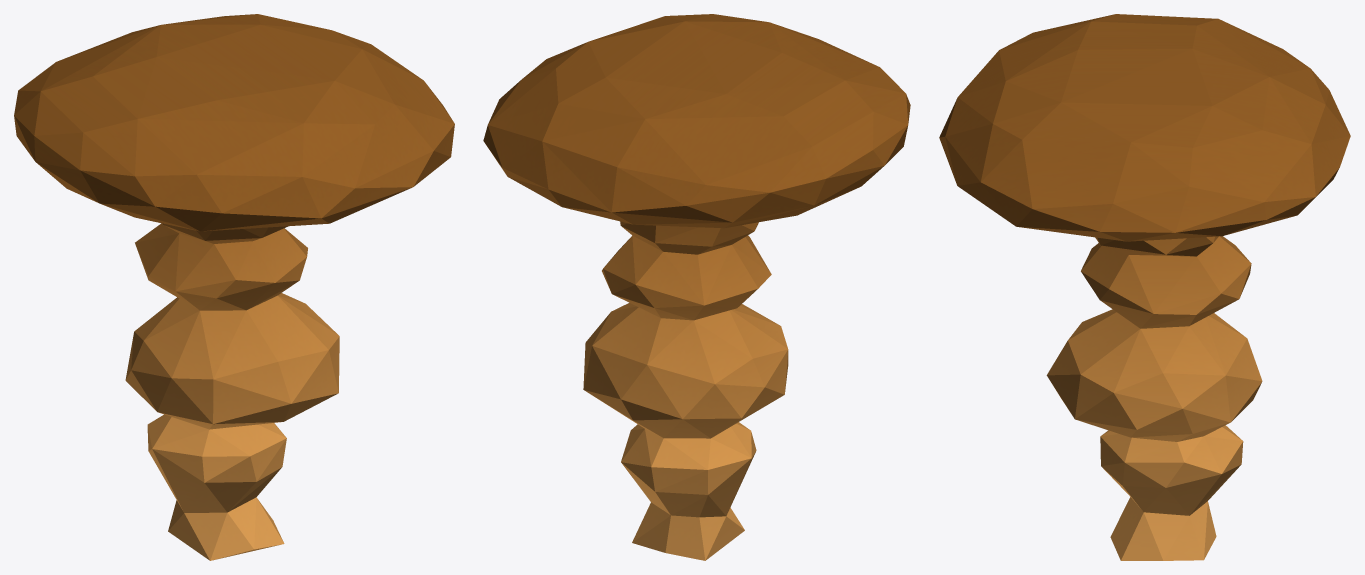
File: hoodooSmall.fbx
3 views of the same model, side by side, from view 1: azimuth 30°, elevation 25°; view 2: azimuth 150°, elevation 25°; view 3: azimuth 270°, elevation 25° (orthographic). The views are drawn at different scales.
Parts seen in each view (by area): view 1: hoodooSmall; view 2: hoodooSmall; view 3: hoodooSmall.
Boxes of the visible parts, x1=… form: hoodooSmall: x1=14, y1=14, x2=454, y2=560; hoodooSmall: x1=483, y1=14, x2=910, y2=560; hoodooSmall: x1=939, y1=14, x2=1350, y2=560.
Bounding box in the file's own units: 297 × 356 × 283.
